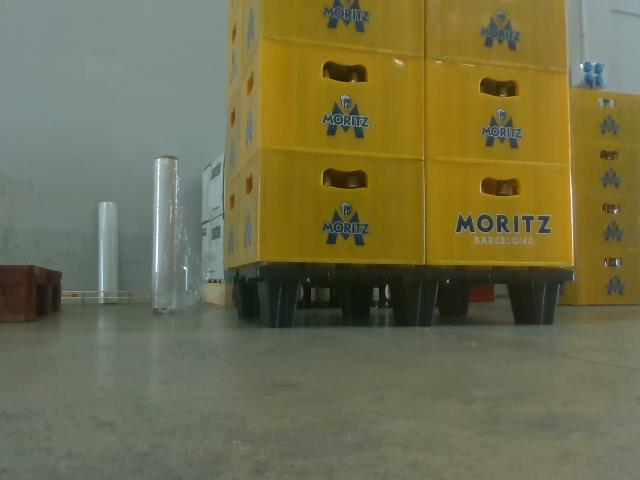block: (243, 277, 305, 330), (389, 277, 443, 328), (502, 281, 559, 329), (433, 281, 473, 321), (335, 285, 376, 323)
front: (249, 269, 583, 334)
hole pallet: (295, 276, 412, 324), (431, 280, 532, 320)
